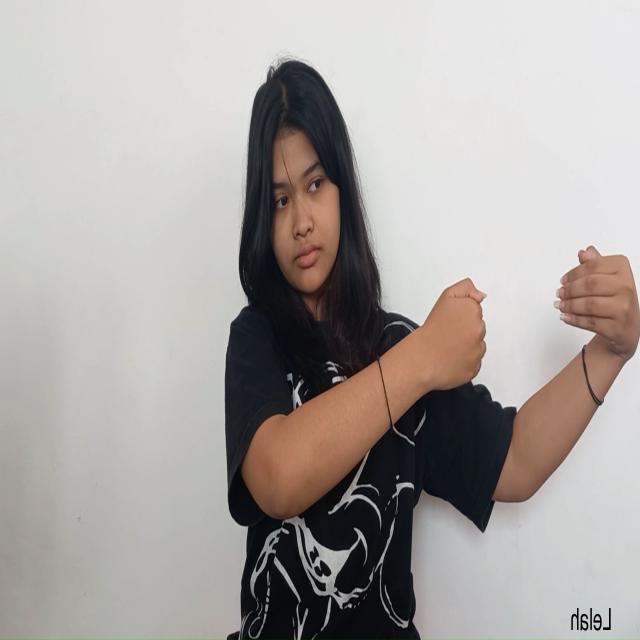Lelah -BISINDO-: (415, 242, 640, 398)
